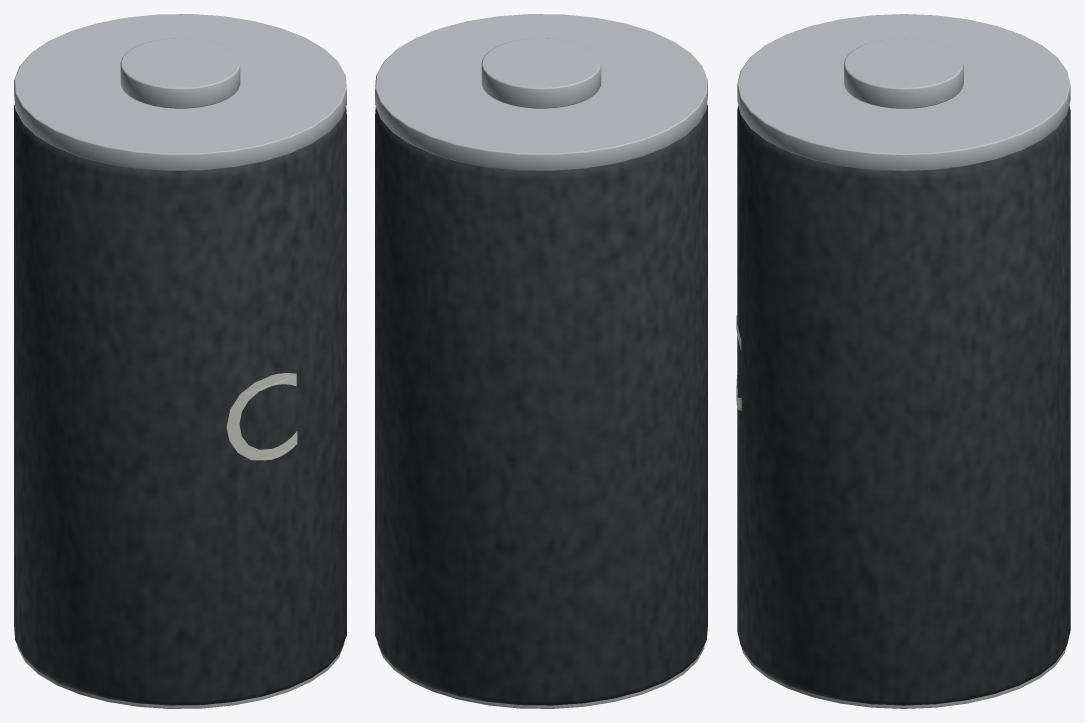
The model's file is BatteryC-v1.fbx.
3 renders of one model, left to right at view 1: azimuth 30°, elevation 25°; view 2: azimuth 150°, elevation 25°; view 3: azimuth 270°, elevation 25°, orthographic.
Parts seen in each view (by area): view 1: PW_BatteryC; view 2: PW_BatteryC; view 3: PW_BatteryC.
Boxes of the visible parts, x1=… form: PW_BatteryC: x1=14, y1=14, x2=346, y2=708; PW_BatteryC: x1=375, y1=14, x2=707, y2=708; PW_BatteryC: x1=736, y1=14, x2=1070, y2=708.
Size of the model in its own units: 2.62 by 5 by 2.63.
1 material, 1 textured.
